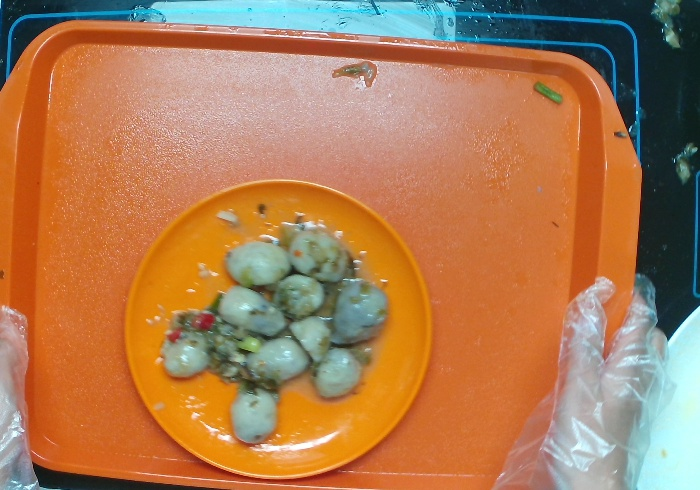HZYJPL-Ju_Huang_Yuan_Pan: (118, 175, 440, 490)
